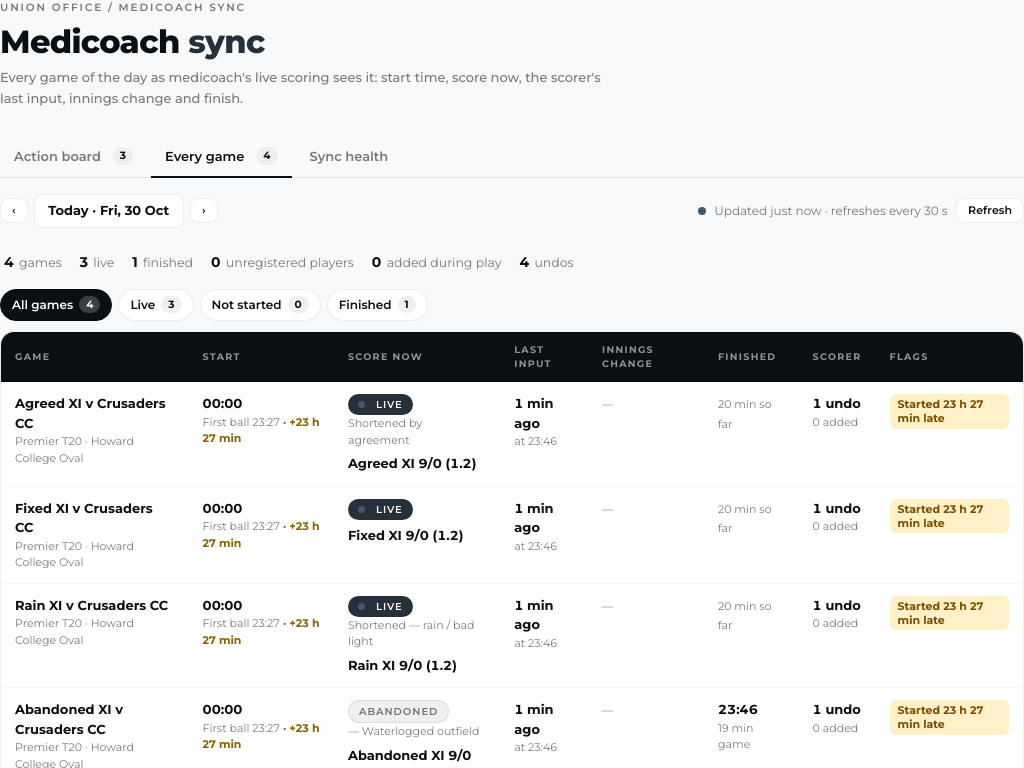
match monitor tab › shows an abandoned game's reason and a rain/agreed shortening; a correction shows nothing
Note: The timeline names the reason on its abandoned line.
Step 1. Click the button "Abandoned XI v Crusaders CC" → coordinates (95, 720), box left=15, top=700, right=175, bottom=739
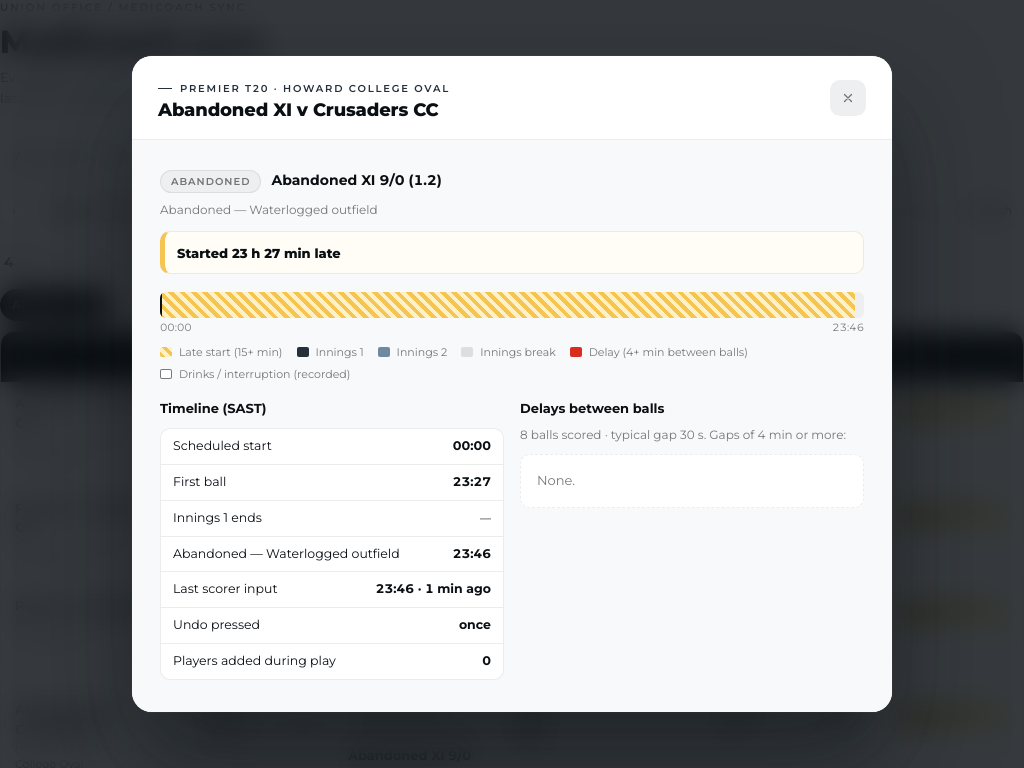
Result: the 1st text "Abandoned — Waterlogged outfield" is shown at left=160, top=202, right=378, bottom=217
